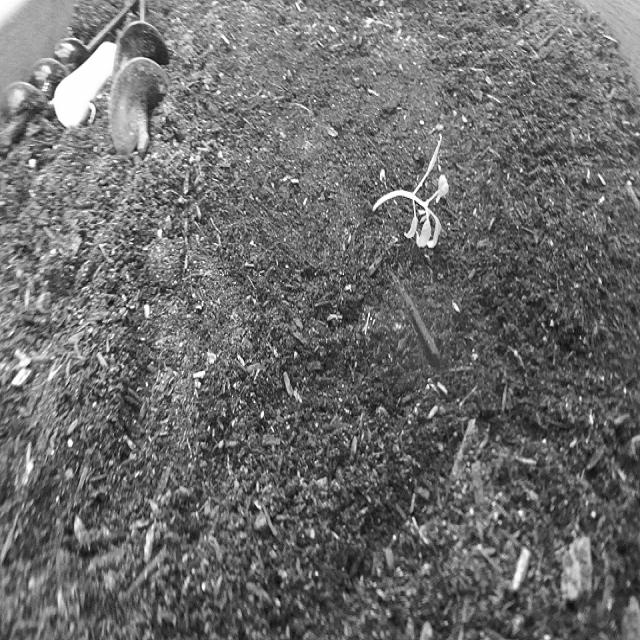Unhealthy: (370, 129, 454, 263)
